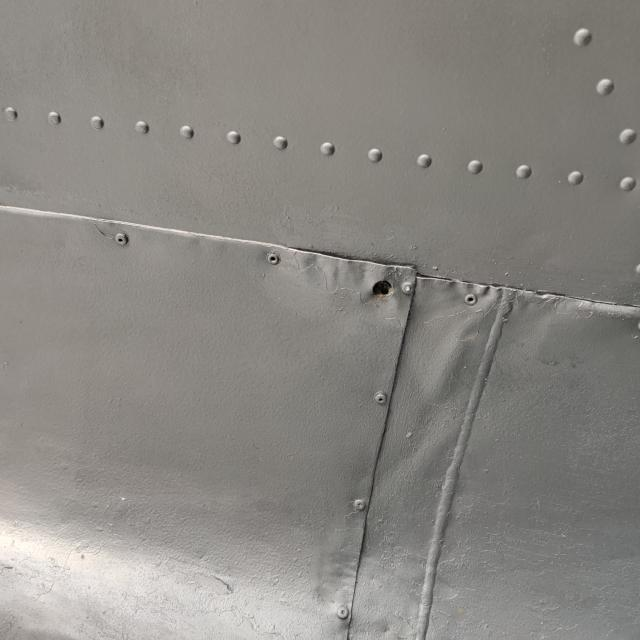missing-head: (343, 232, 444, 334)
